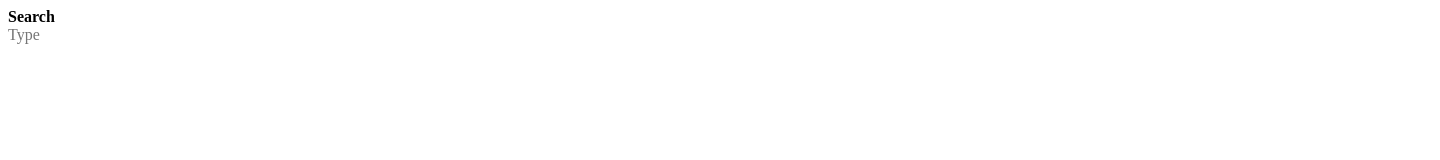
Test: PlaceSearch › shows towns at once and online areas after a moment, each once
In the dropdown labelled "Search": coordinates (720, 35) [8,26,1432,44], type "kisu"
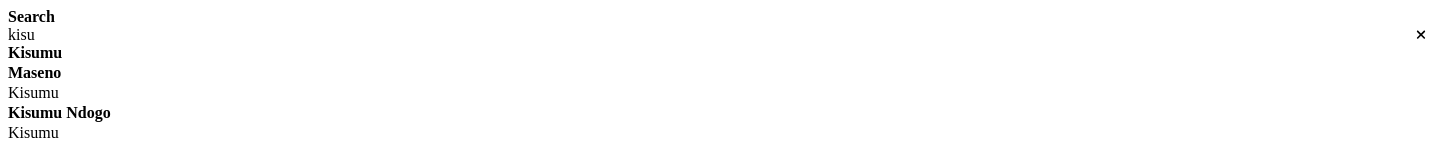
Now the option "Kisumu Ndogo Kisumu" is shown, box [8,104,111,141]
